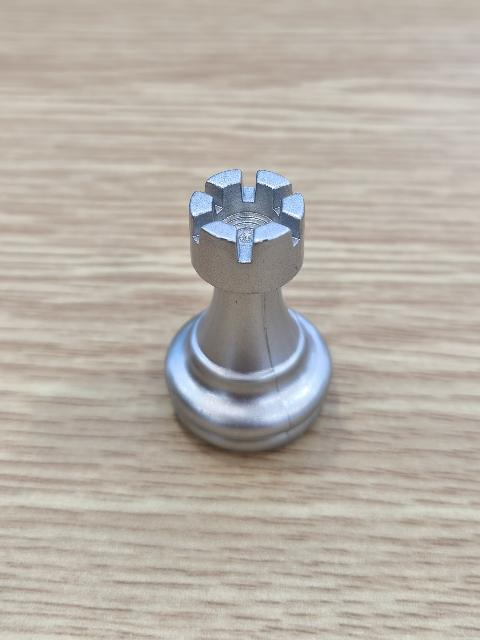white_rook: (166, 168, 334, 455)
